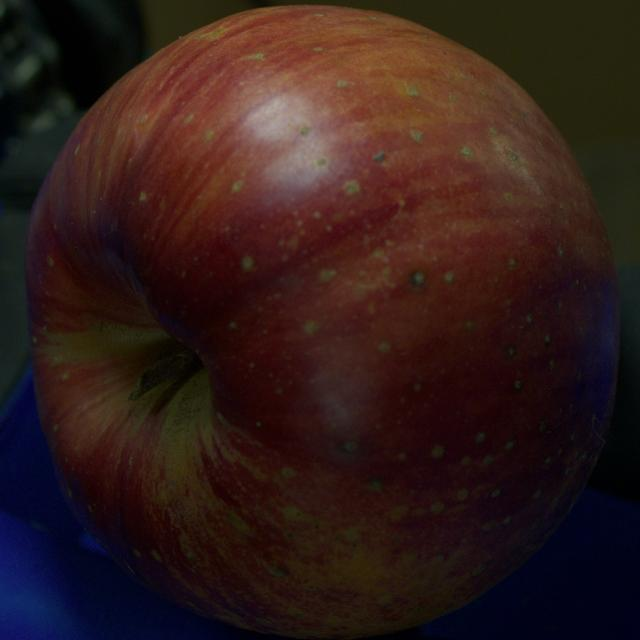apple: (26, 6, 618, 638)
